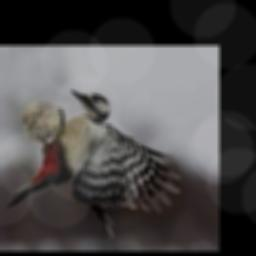Woodpecker: (6, 89, 181, 237)
